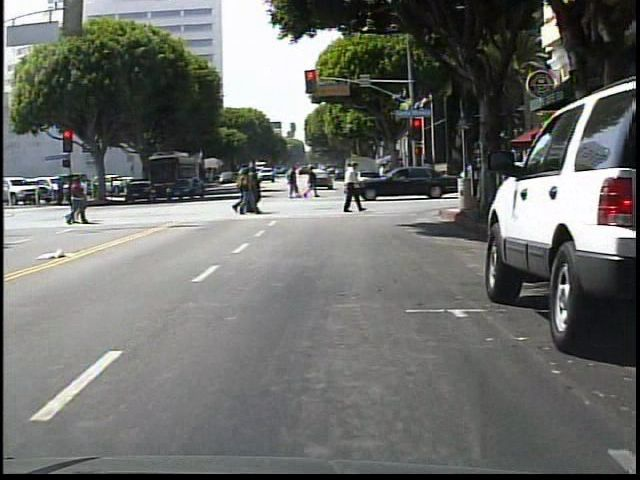person: (340, 158, 369, 219)
